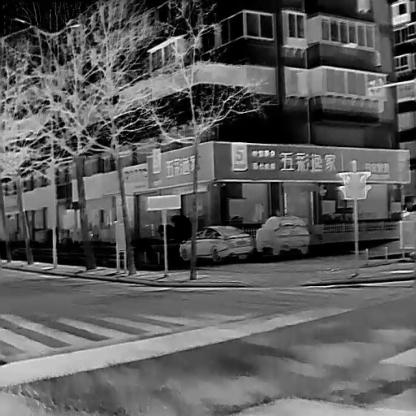car: (178, 224, 252, 260), (255, 214, 309, 254)
